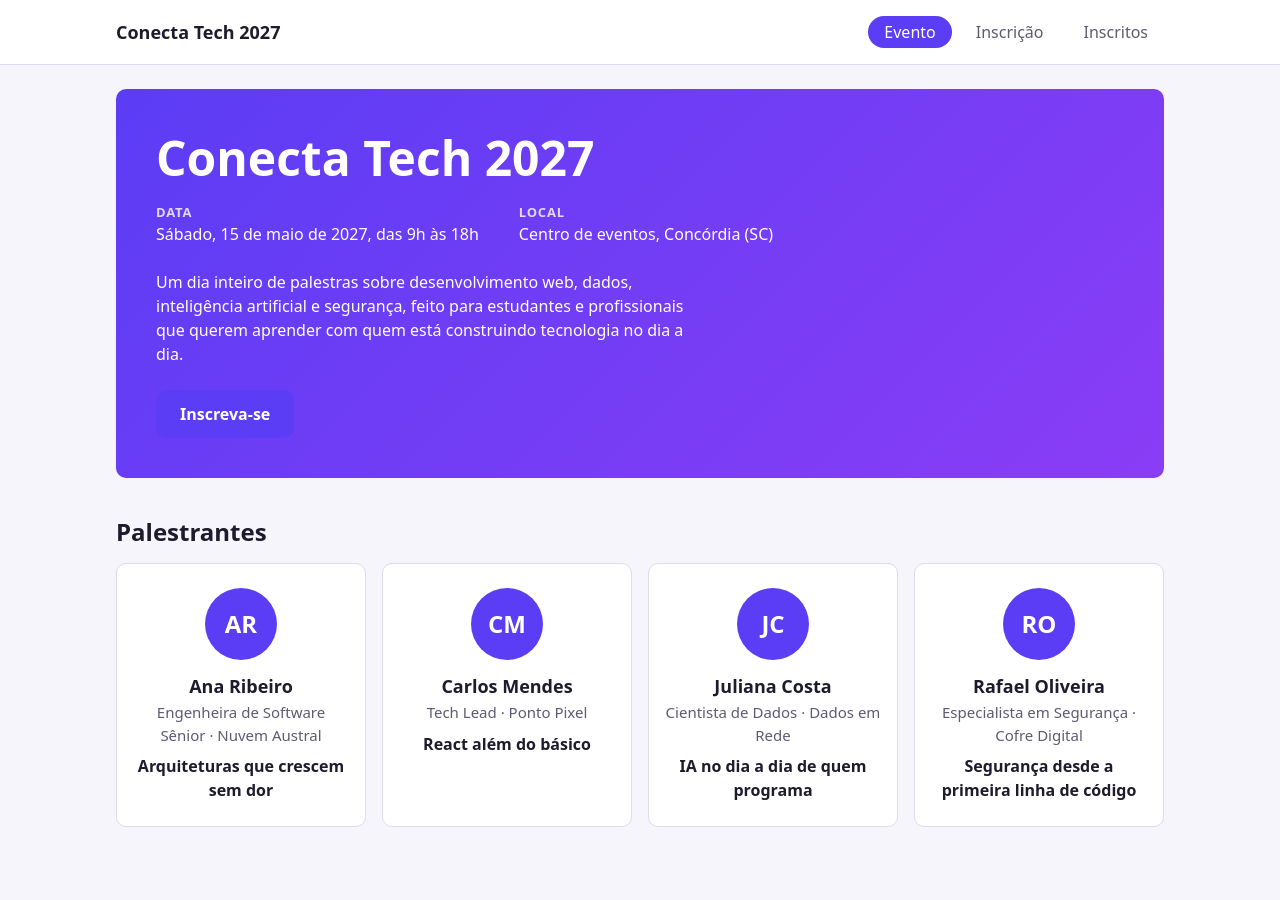
Test: navegação › REQ-FE-01: os links do cabeçalho trocam de tela
The width and height of the screenshot is (1280, 900).
Click the link "Inscrição" at (1010, 32), box [976,21,1044,43]
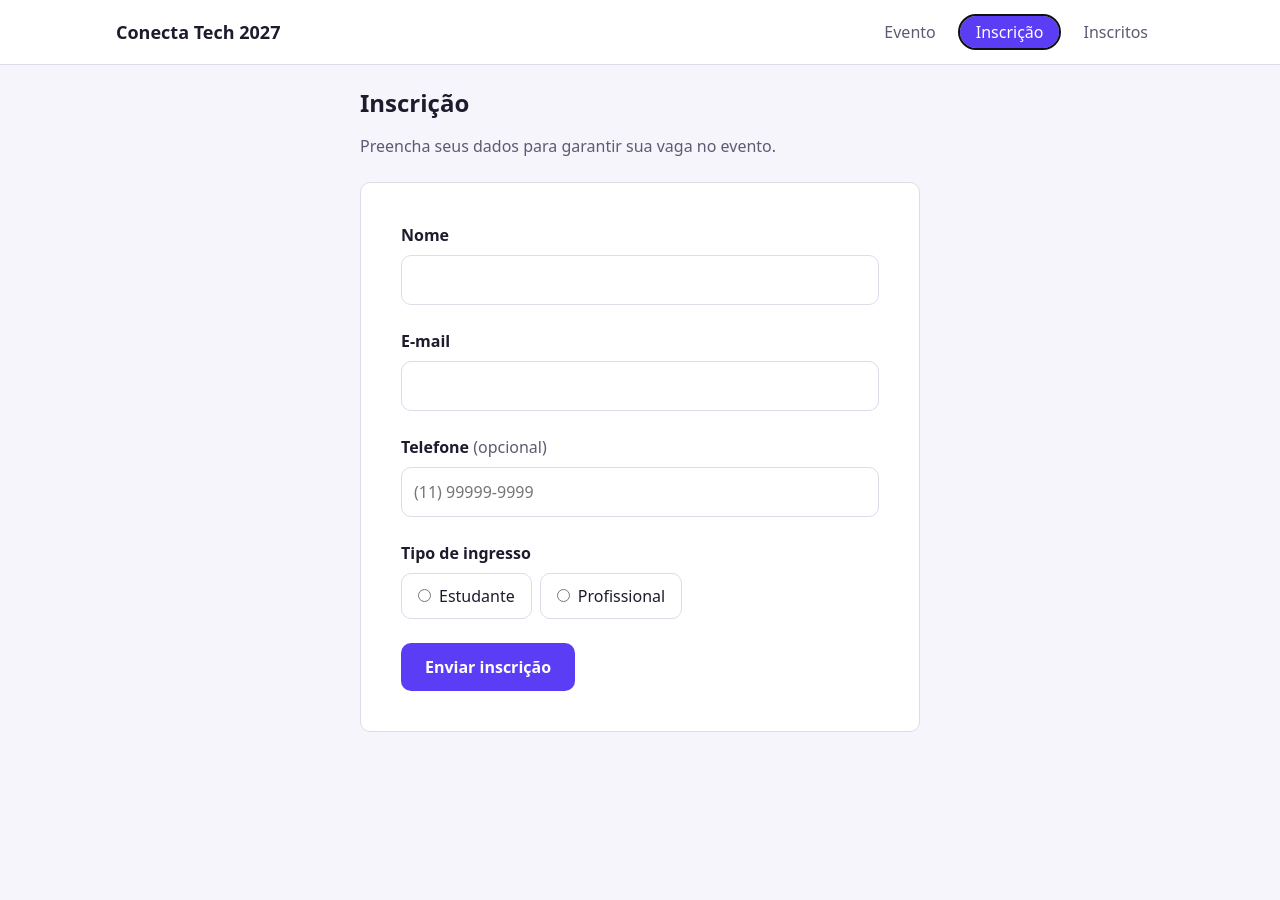
Expected: the heading reads "Inscrição", [360,86,469,119]
Click the link "Inscritos" at (1116, 32), box [1084,21,1148,43]
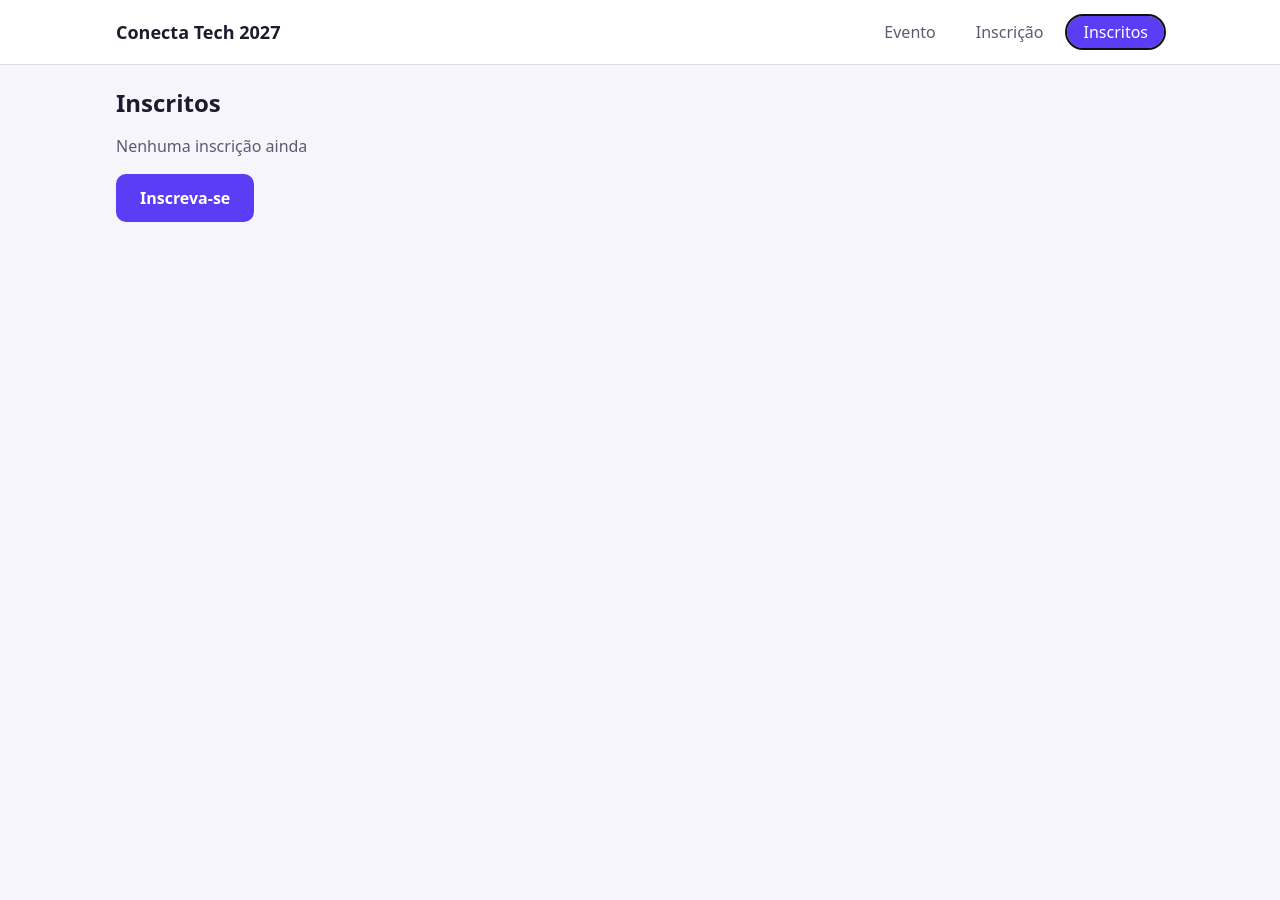
Expected: the heading reads "Inscritos", [116,86,221,119]
Click the link "Evento" at (910, 32), box [884,21,936,43]
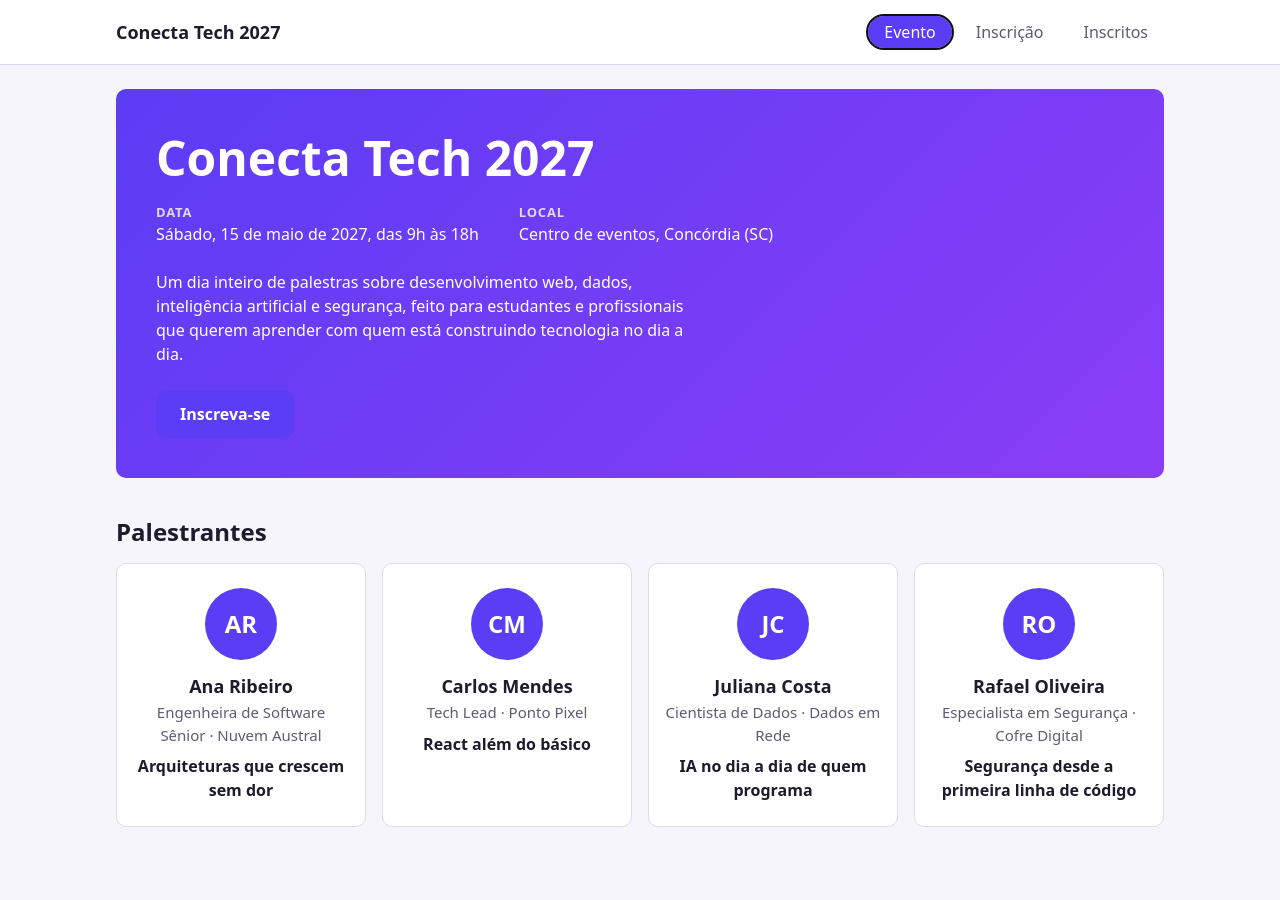
Expected: the heading "Conecta Tech 2027" is shown, [156,125,594,190]
